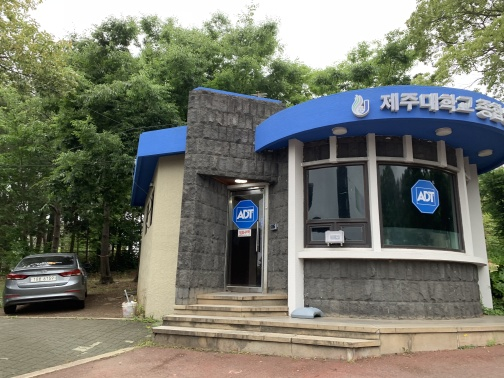Security Office: (129, 78, 504, 374)
